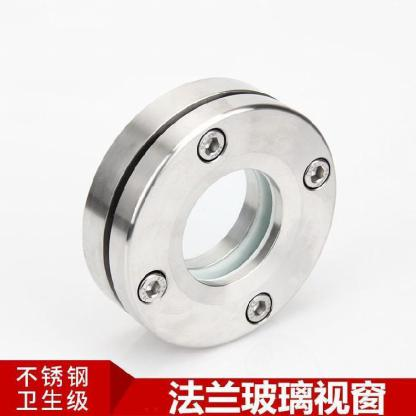FOD: (81, 72, 345, 360)
